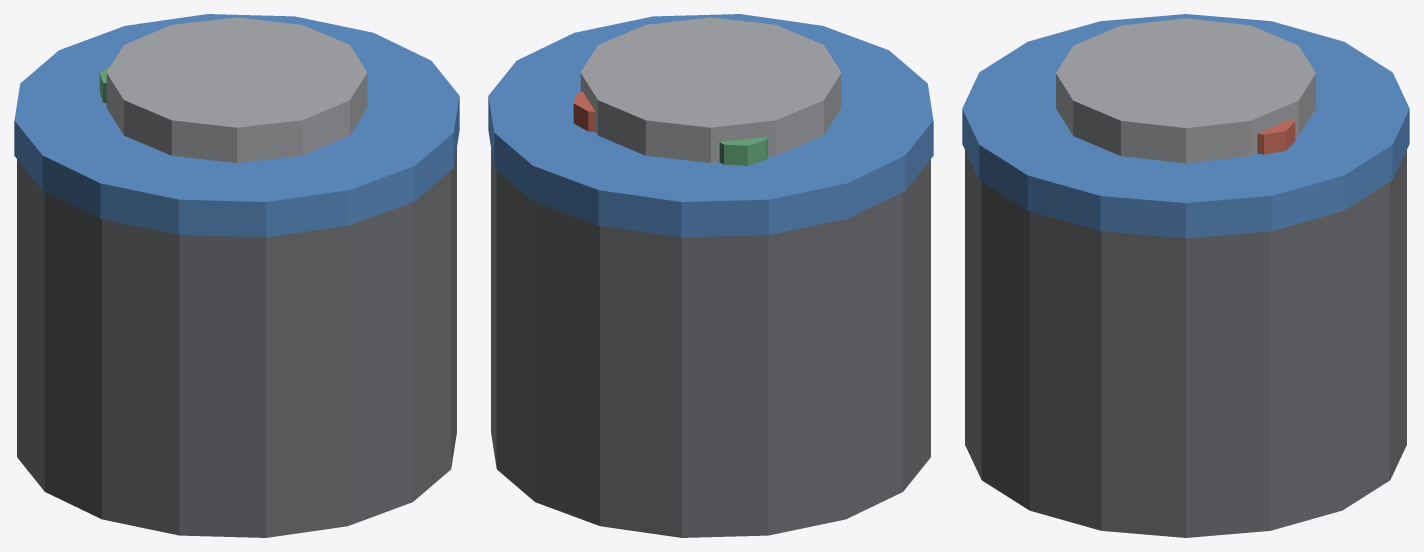
Rendered from eld_assistente.glb.
3 views of the same model, side by side, from view 1: azimuth 30°, elevation 25°; view 2: azimuth 150°, elevation 25°; view 3: azimuth 270°, elevation 25° (orthographic).
Visible parts, largest first — view 1: ELD_ASSISTENTE_v01; view 2: ELD_ASSISTENTE_v01; view 3: ELD_ASSISTENTE_v01.
Part boxes in pixels (left/top/right/bottom): ELD_ASSISTENTE_v01: left=14, top=14, right=459, bottom=537; ELD_ASSISTENTE_v01: left=488, top=14, right=933, bottom=537; ELD_ASSISTENTE_v01: left=962, top=14, right=1409, bottom=537.
Bounding box in the file's own units: 0.172 × 0.1575 × 0.172.
